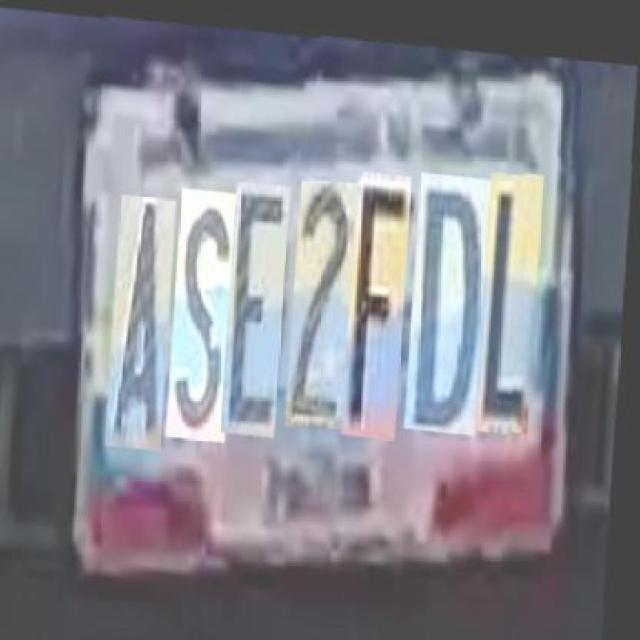2: (290, 170, 361, 422)
a: (111, 188, 178, 444)
d: (409, 162, 494, 426)
e: (225, 173, 293, 429)
f: (346, 163, 414, 431)
l: (480, 161, 546, 424)
s: (171, 180, 244, 434)
